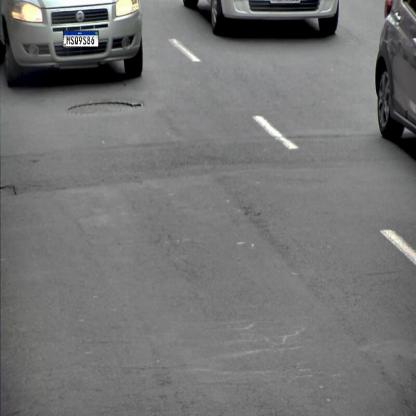PlacaM: (63, 31, 99, 47)
